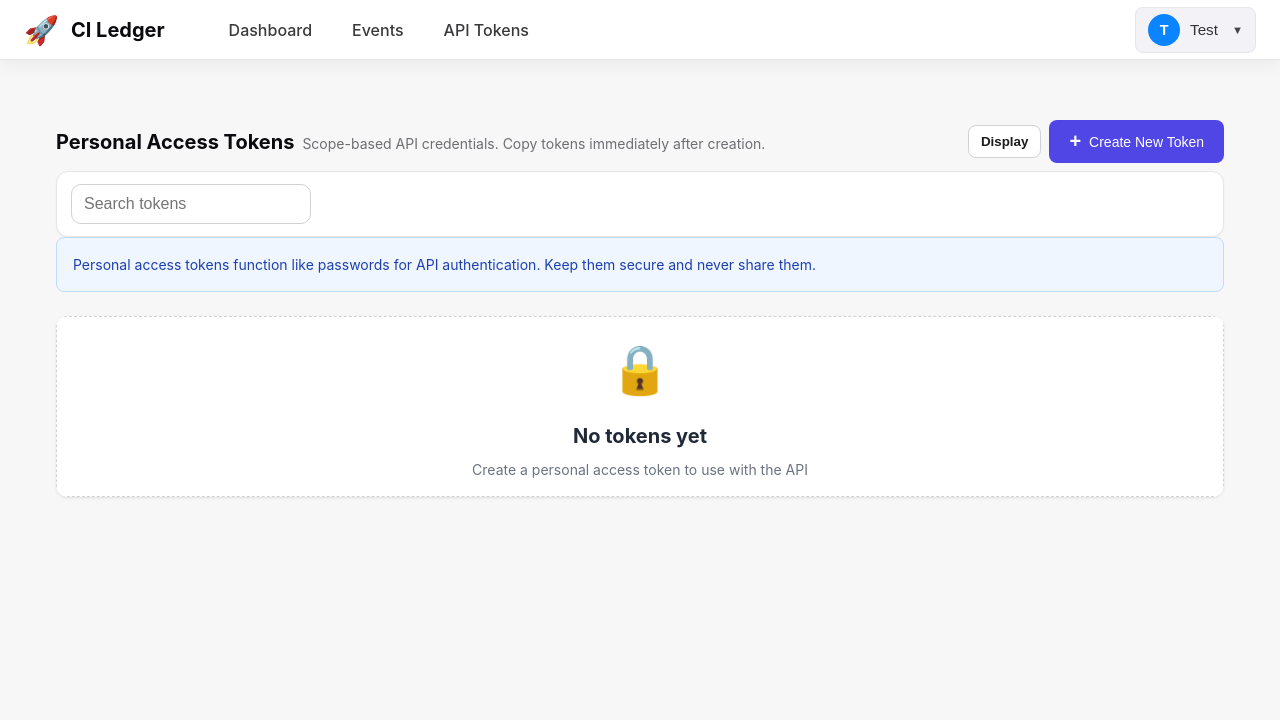
TokensPage Component › shows create token modal
Step 1. Click the button "+ Create New Token" → (1137, 142), box [1049,120,1224,163]
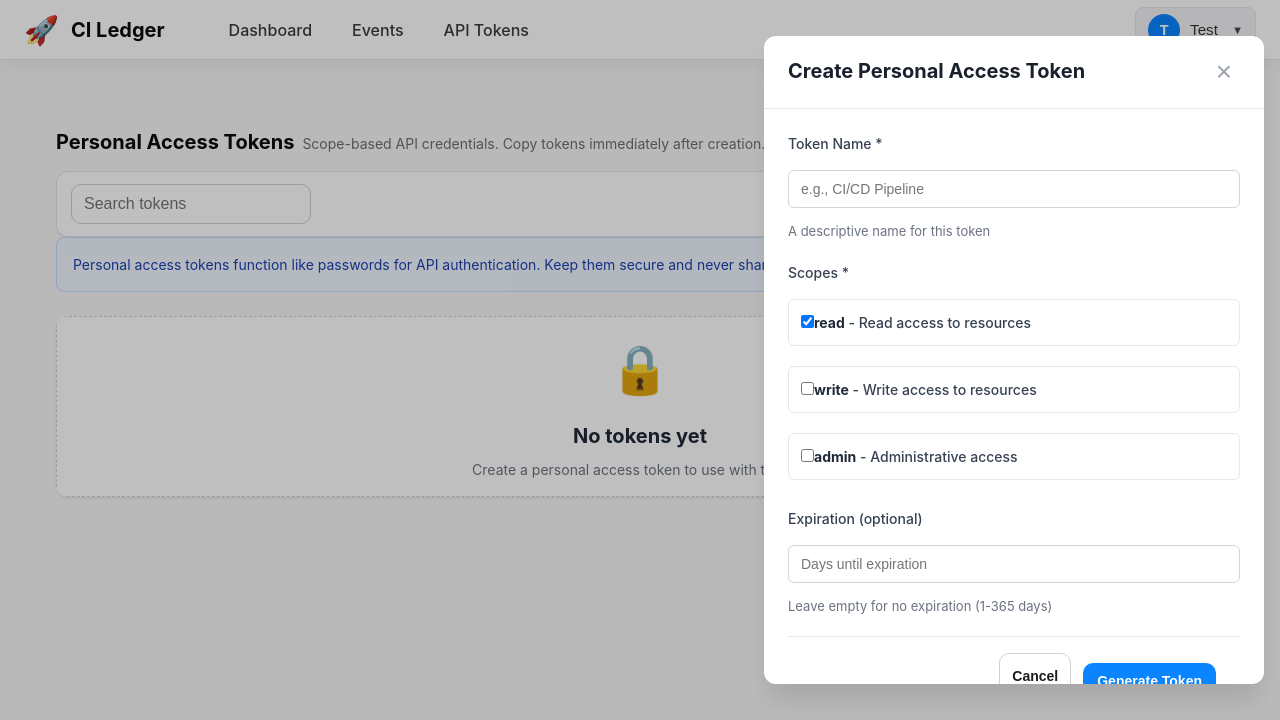
Now the heading "Create Personal Access Token" is shown, box [788,56,1085,86]
